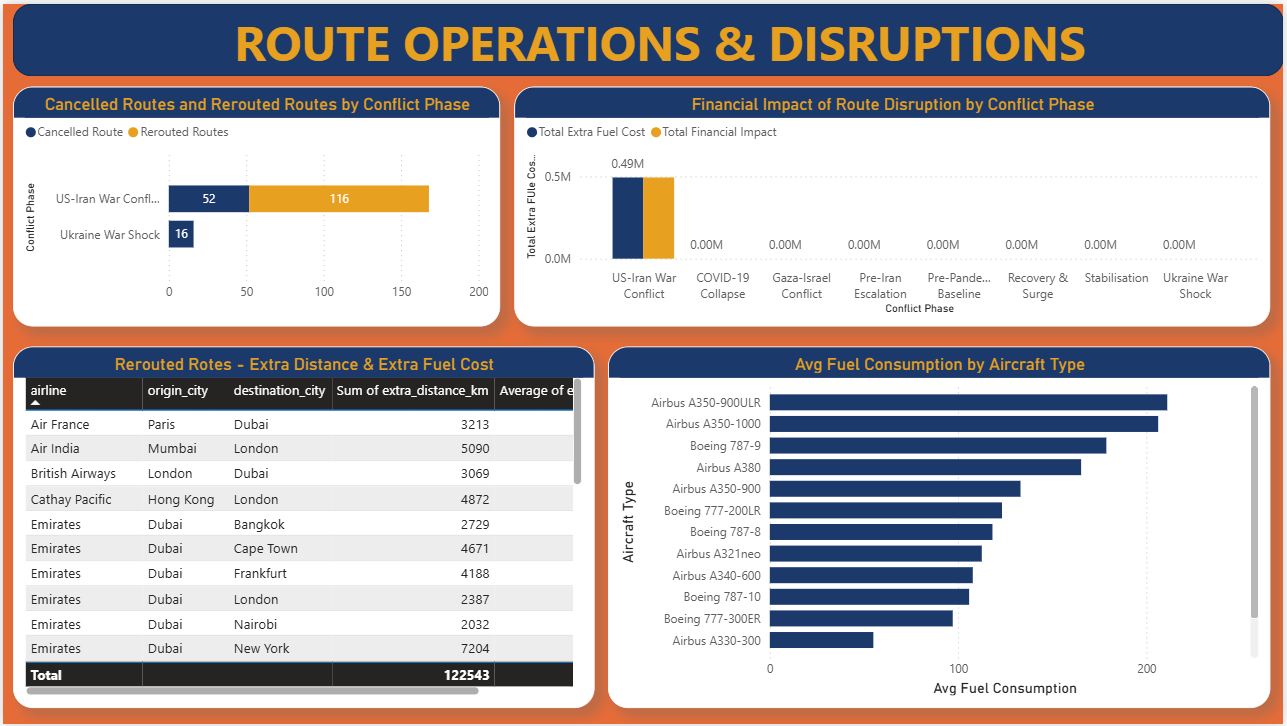

What the dashboard file says about the page in this screenshot:
{"tool":"powerbi","page":{"name":"Route Operations & Disruptions","canvas":[1280,720],"ordinal":3},"visuals":[{"type":"shape","box":[9.8,0,1270.5,72.1],"z":0},{"type":"textbox","box":[103.9,0,1106.7,81.9],"z":1000},{"type":"barChart","title":"Cancelled Routes and Rerouted Routes by Conflict Phase","fields":{"Category":["route_cost_impact.conflict_phase"],"Y":["airline_financial_impact.Cancelled Route","airline_financial_impact.Rerouted Routes"]},"box":[10,82.5,487.5,240],"z":2000},{"type":"tableEx","title":"Rerouted Rotes - Extra Distance & Extra Fuel Cost","fields":{"Values":["route_cost_impact.airline","route_cost_impact.origin_city","route_cost_impact.destination_city","Sum(route_cost_impact.extra_distance_km)","Avg(route_cost_impact.extra_fuel_cost_usd)"]},"box":[10,342.5,581.2,361.2],"z":3000},{"type":"clusteredColumnChart","title":"Financial Impact of Route Disruption by Conflict Phase","fields":{"Category":["route_cost_impact.conflict_phase"],"Y":["airline_financial_impact.Total Extra Fuel Cost","airline_financial_impact.Total Financial Impact"]},"box":[511.2,82.5,756.2,240],"z":4000},{"type":"clusteredBarChart","title":"Avg Fuel Consumption by Aircraft Type","fields":{"Category":["route_cost_impact.aircraft_type"],"Y":["Avg(route_cost_impact.fuel_consumption_bbl)"]},"box":[605,342.5,662.5,361.2],"z":5000}]}

Visuals, with their boxes in screenshot pixels (x1, y1, x2, y2), scaled from the page's 1280x720 canvas onto the 1287x726 screenshot:
shape: [10,0,1286,73]
textbox: [104,0,1217,83]
"Cancelled Routes and Rerouted Routes by Conflict Phase" barChart: [10,83,500,325]
"Rerouted Rotes - Extra Distance & Extra Fuel Cost" tableEx: [10,345,594,710]
"Financial Impact of Route Disruption by Conflict Phase" clusteredColumnChart: [514,83,1274,325]
"Avg Fuel Consumption by Aircraft Type" clusteredBarChart: [608,345,1274,710]
